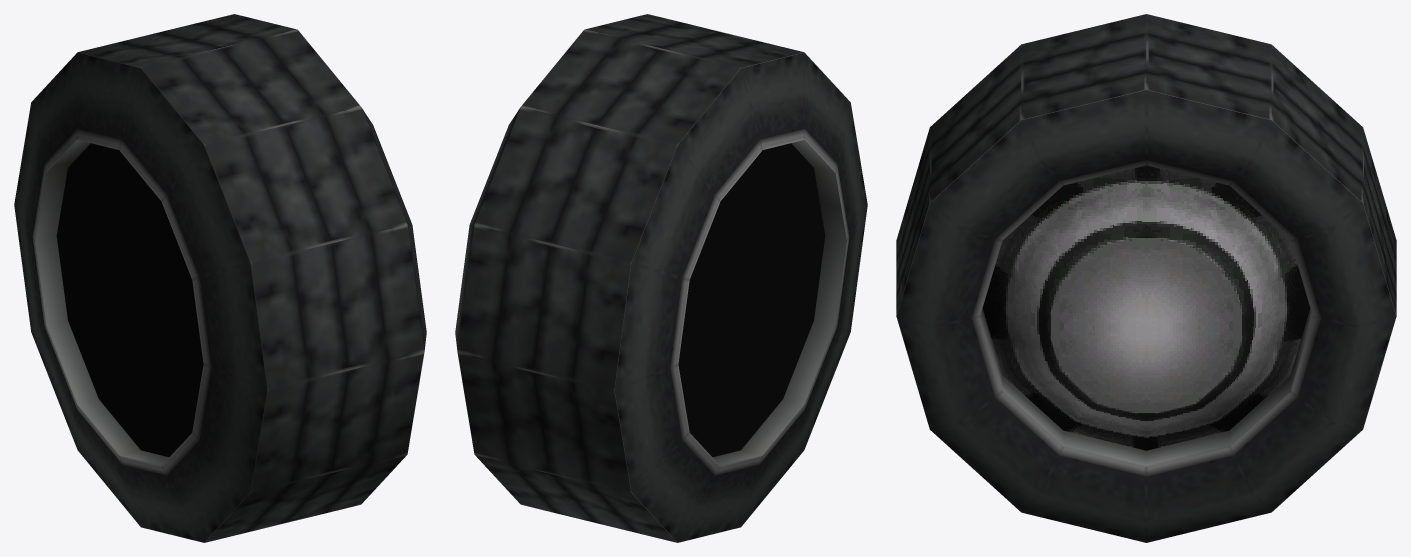
The model's file is DefaultWheel_glendale.glb.
The picture shows the model from 3 angles, left to right: view 1: azimuth 30°, elevation 25°; view 2: azimuth 150°, elevation 25°; view 3: azimuth 270°, elevation 25°; orthographic projection.
Parts seen in each view (by area): view 1: wheel; view 2: wheel; view 3: wheel.
Boxes of the visible parts, box(x1,y1,x2,y2) form: wheel: box(14, 14, 426, 542); wheel: box(455, 14, 867, 542); wheel: box(896, 14, 1396, 542).
Size of the model in its own units: 0.3289 by 0.7 by 0.7.
3 materials, 3 textured.
